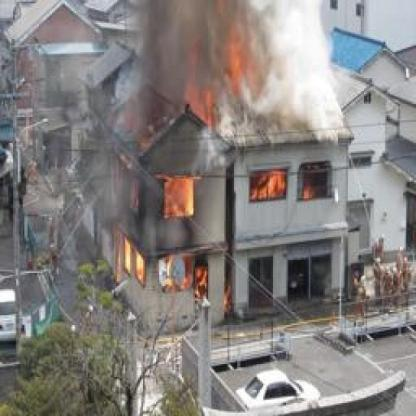fire: (117, 148, 236, 320), (179, 0, 269, 131), (252, 170, 288, 202)
